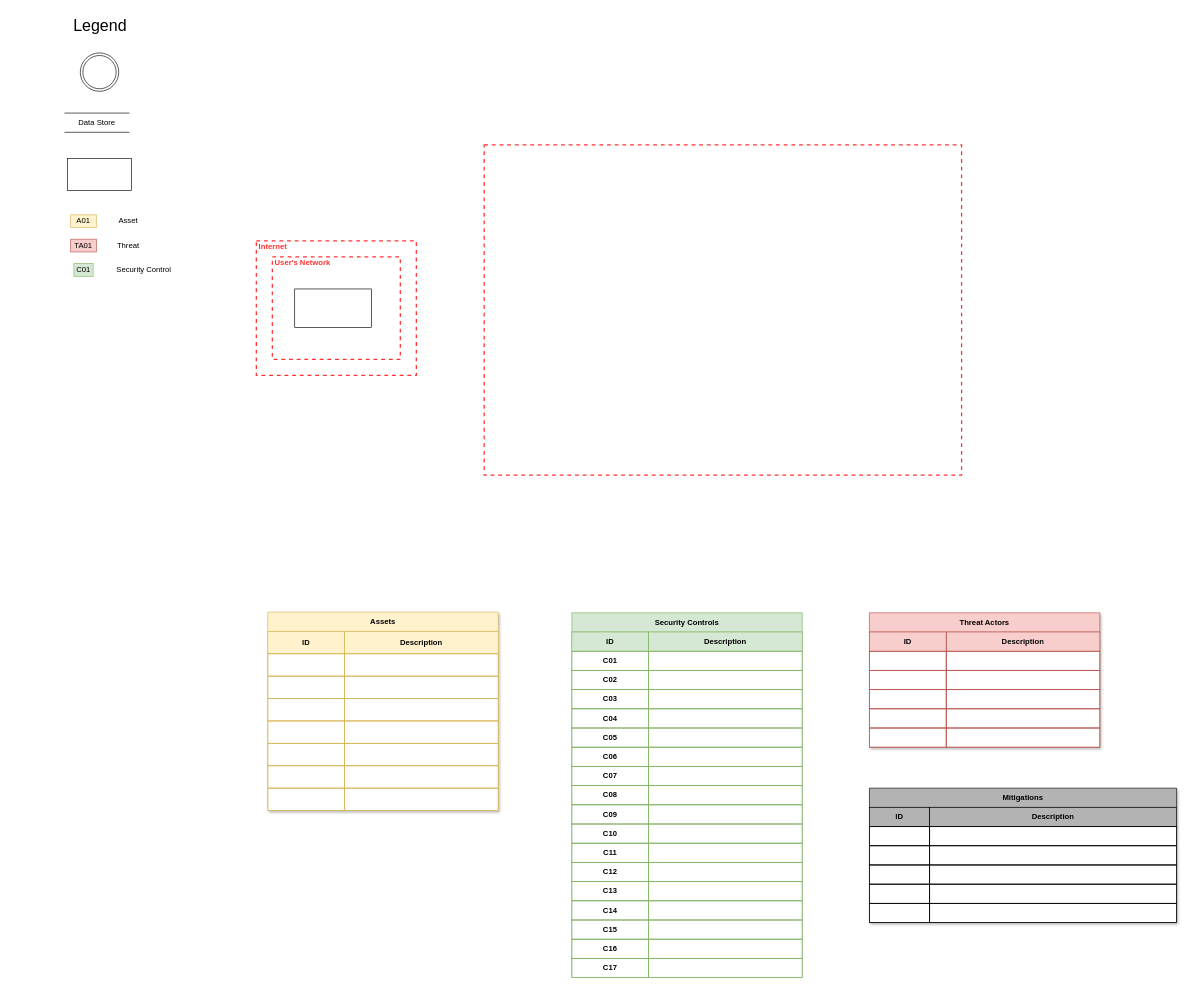
The diagram is 1192 pixels wide and 989 high, and some of its shapes have lost their labels. The shapes that lost their labels are listed below. From the top down, each one's centre as x and y in pixels, then its label:
At pixel 99 71: "Process".
At pixel 99 174: "External access".
At pixel 333 307: "User's machine".
At pixel 722 310: "AWS".
